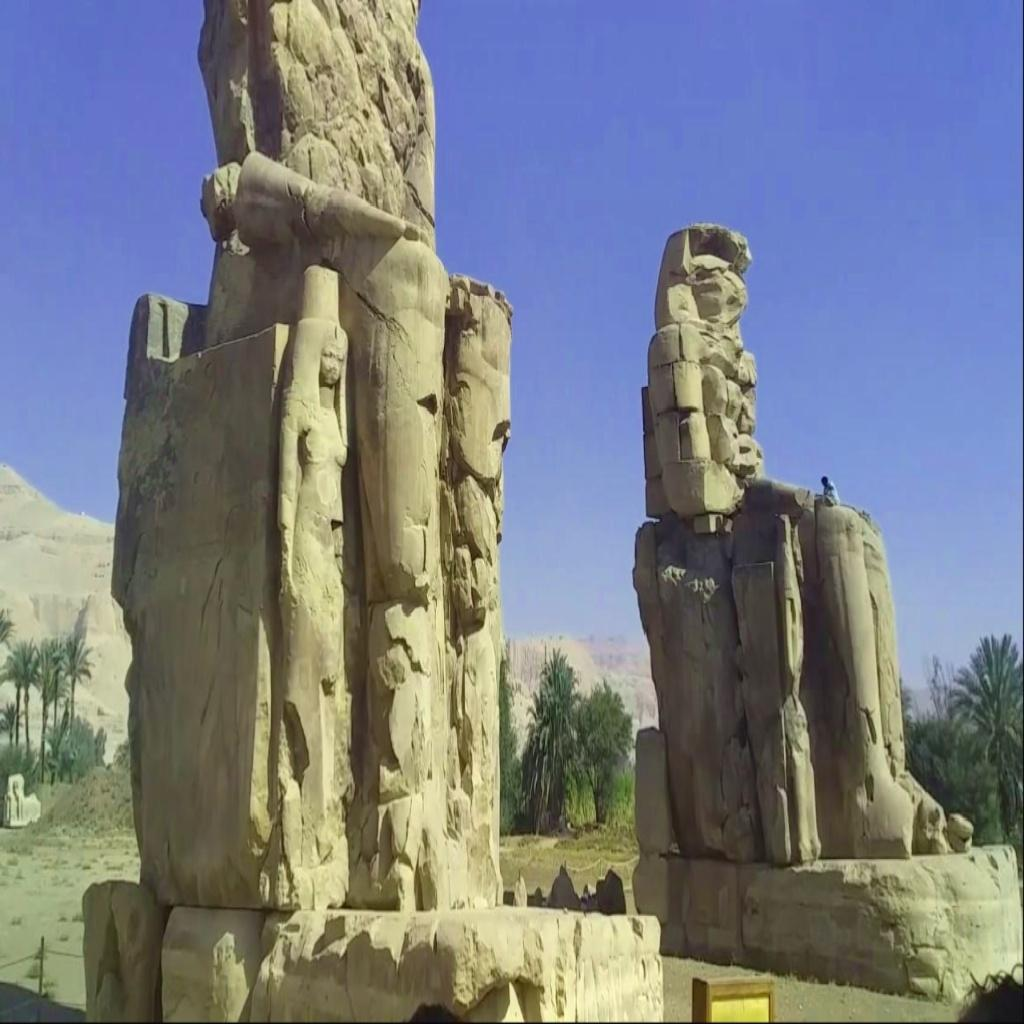Colossoi of Memnon: (98, 7, 516, 944), (628, 218, 962, 878)
